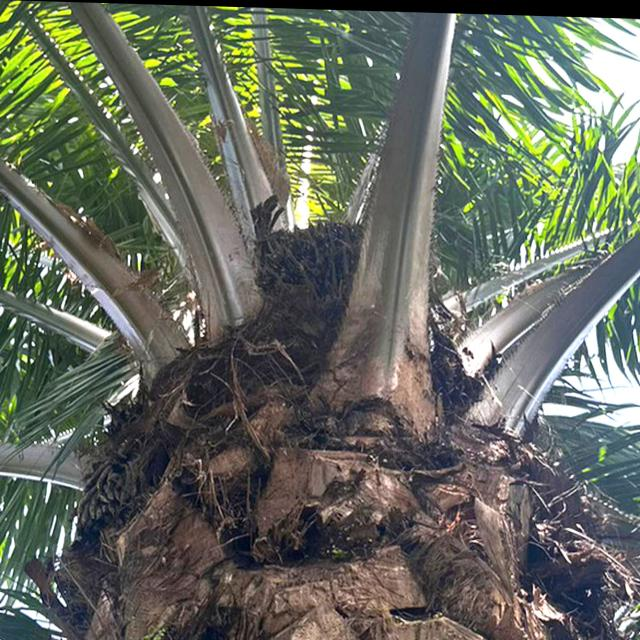unripe: (249, 209, 367, 311)
